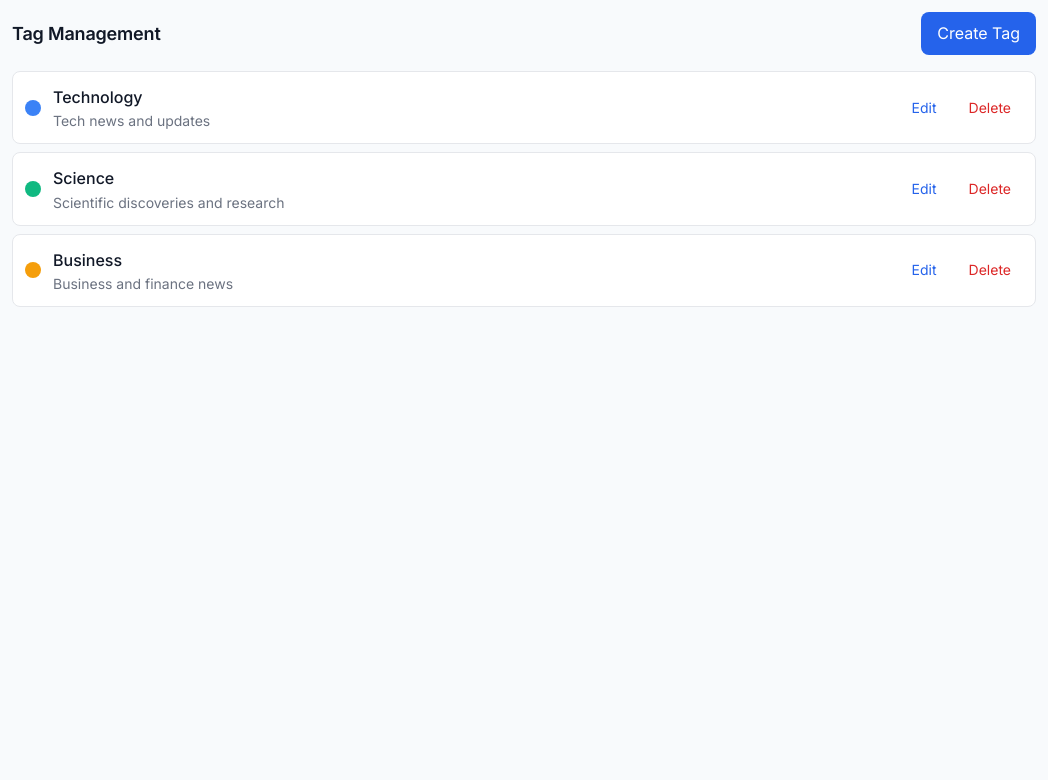
Scenario: TagManagement › Create Form › closes form and resets after successful create
Click the button "Create Tag": click(979, 34) left=921, top=12, right=1036, bottom=55
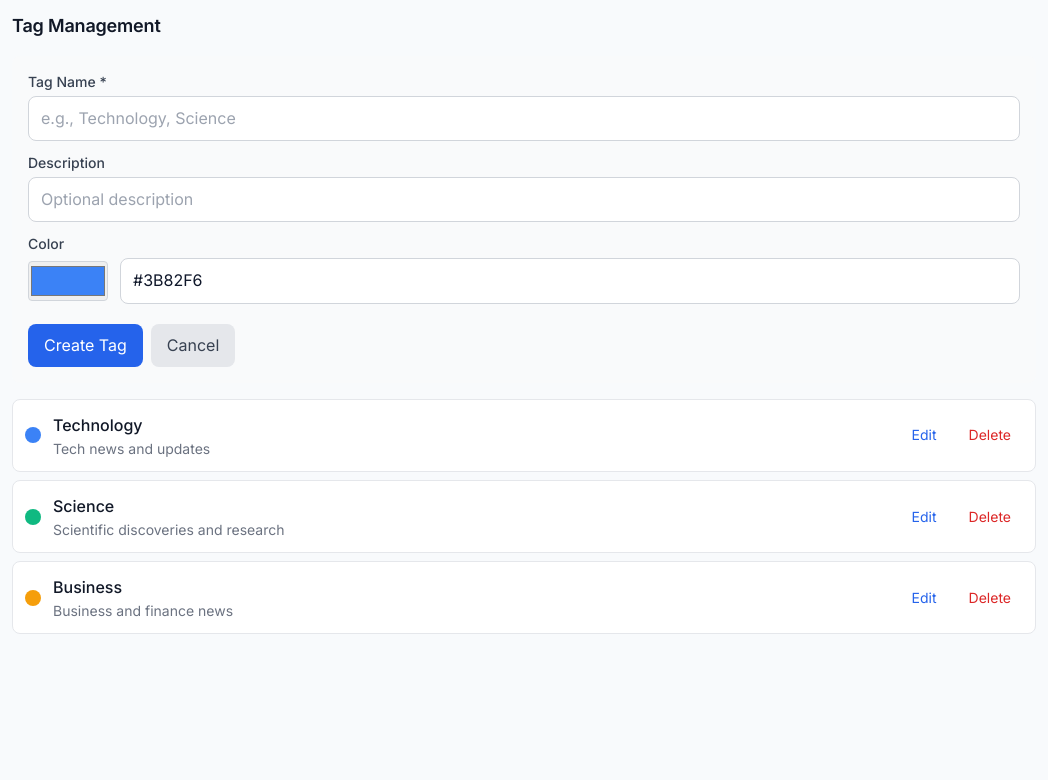
In the field labelled "Tag Name *": (524, 119) left=28, top=96, right=1020, bottom=141, type "Health"
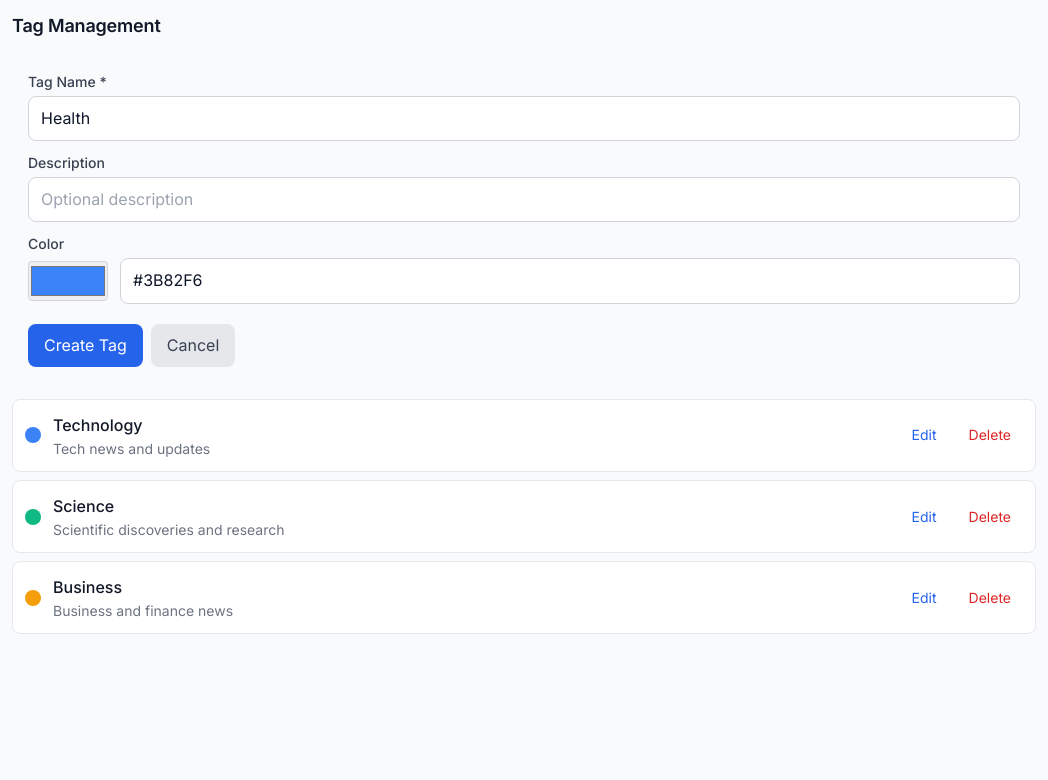
Click the button "Create Tag": click(85, 345) left=28, top=324, right=143, bottom=367
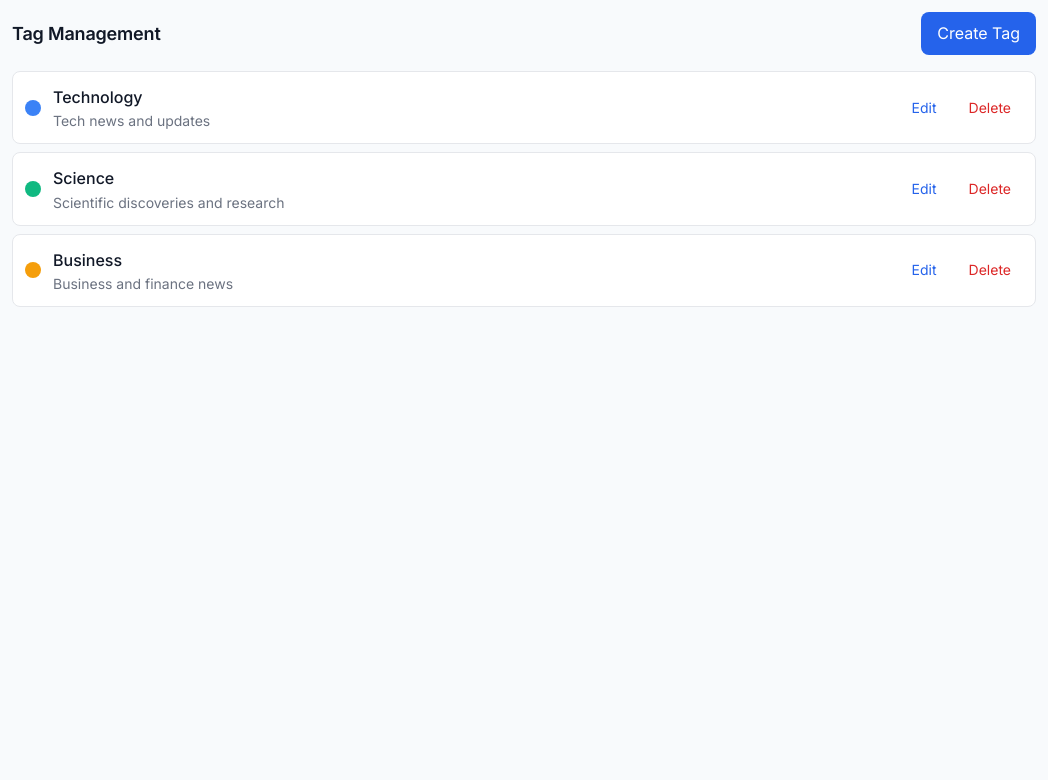
Now the label labelled "Tag Name" is gone
